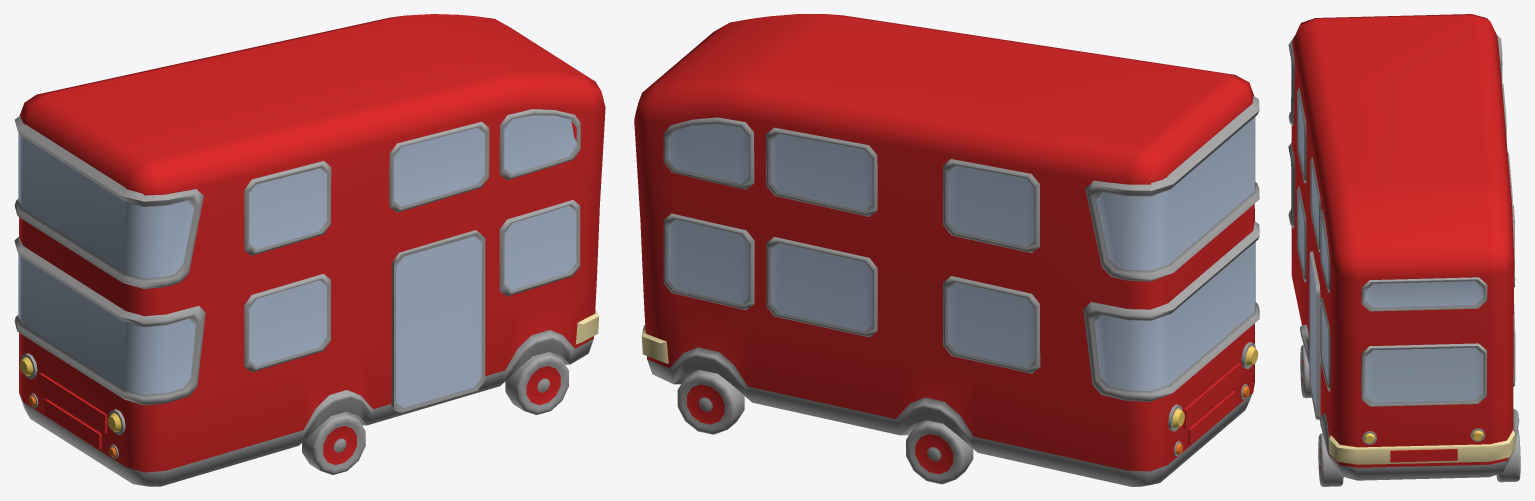
The model's file is Toy_Bus_231109.glb.
3 views of the same model, side by side, from view 1: azimuth 30°, elevation 25°; view 2: azimuth 150°, elevation 25°; view 3: azimuth 270°, elevation 25° (orthographic). The views are drawn at different scales.
Parts seen in each view (by area): view 1: Toy_Bus; view 2: Toy_Bus; view 3: Toy_Bus.
Part boxes in pixels (x1,y1,x2,y2): Toy_Bus: (14,14,605,486); Toy_Bus: (634,14,1259,486); Toy_Bus: (1288,14,1520,486).
Bounding box in the file's own units: 0.8206 × 0.5335 × 0.374.
Materials: 1 (1 with a texture image).
